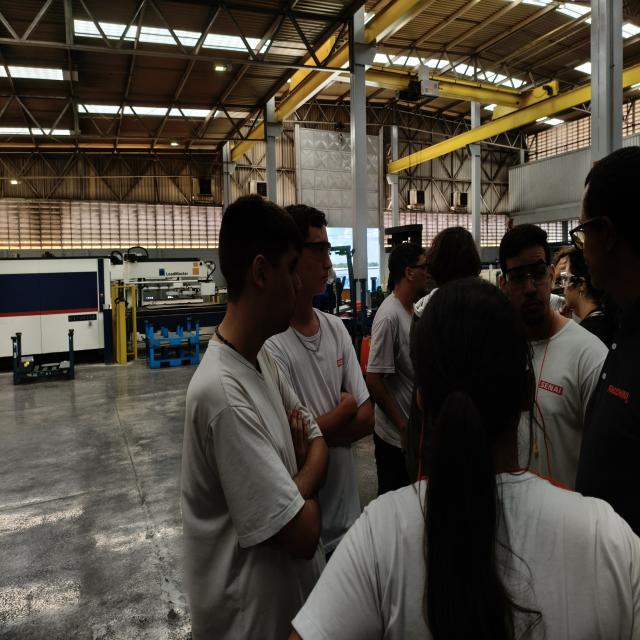oculos-epi: (504, 263, 551, 289), (302, 242, 332, 260), (403, 263, 429, 277), (560, 271, 579, 288)
sem_oculos: (564, 158, 640, 320), (214, 190, 299, 334)
